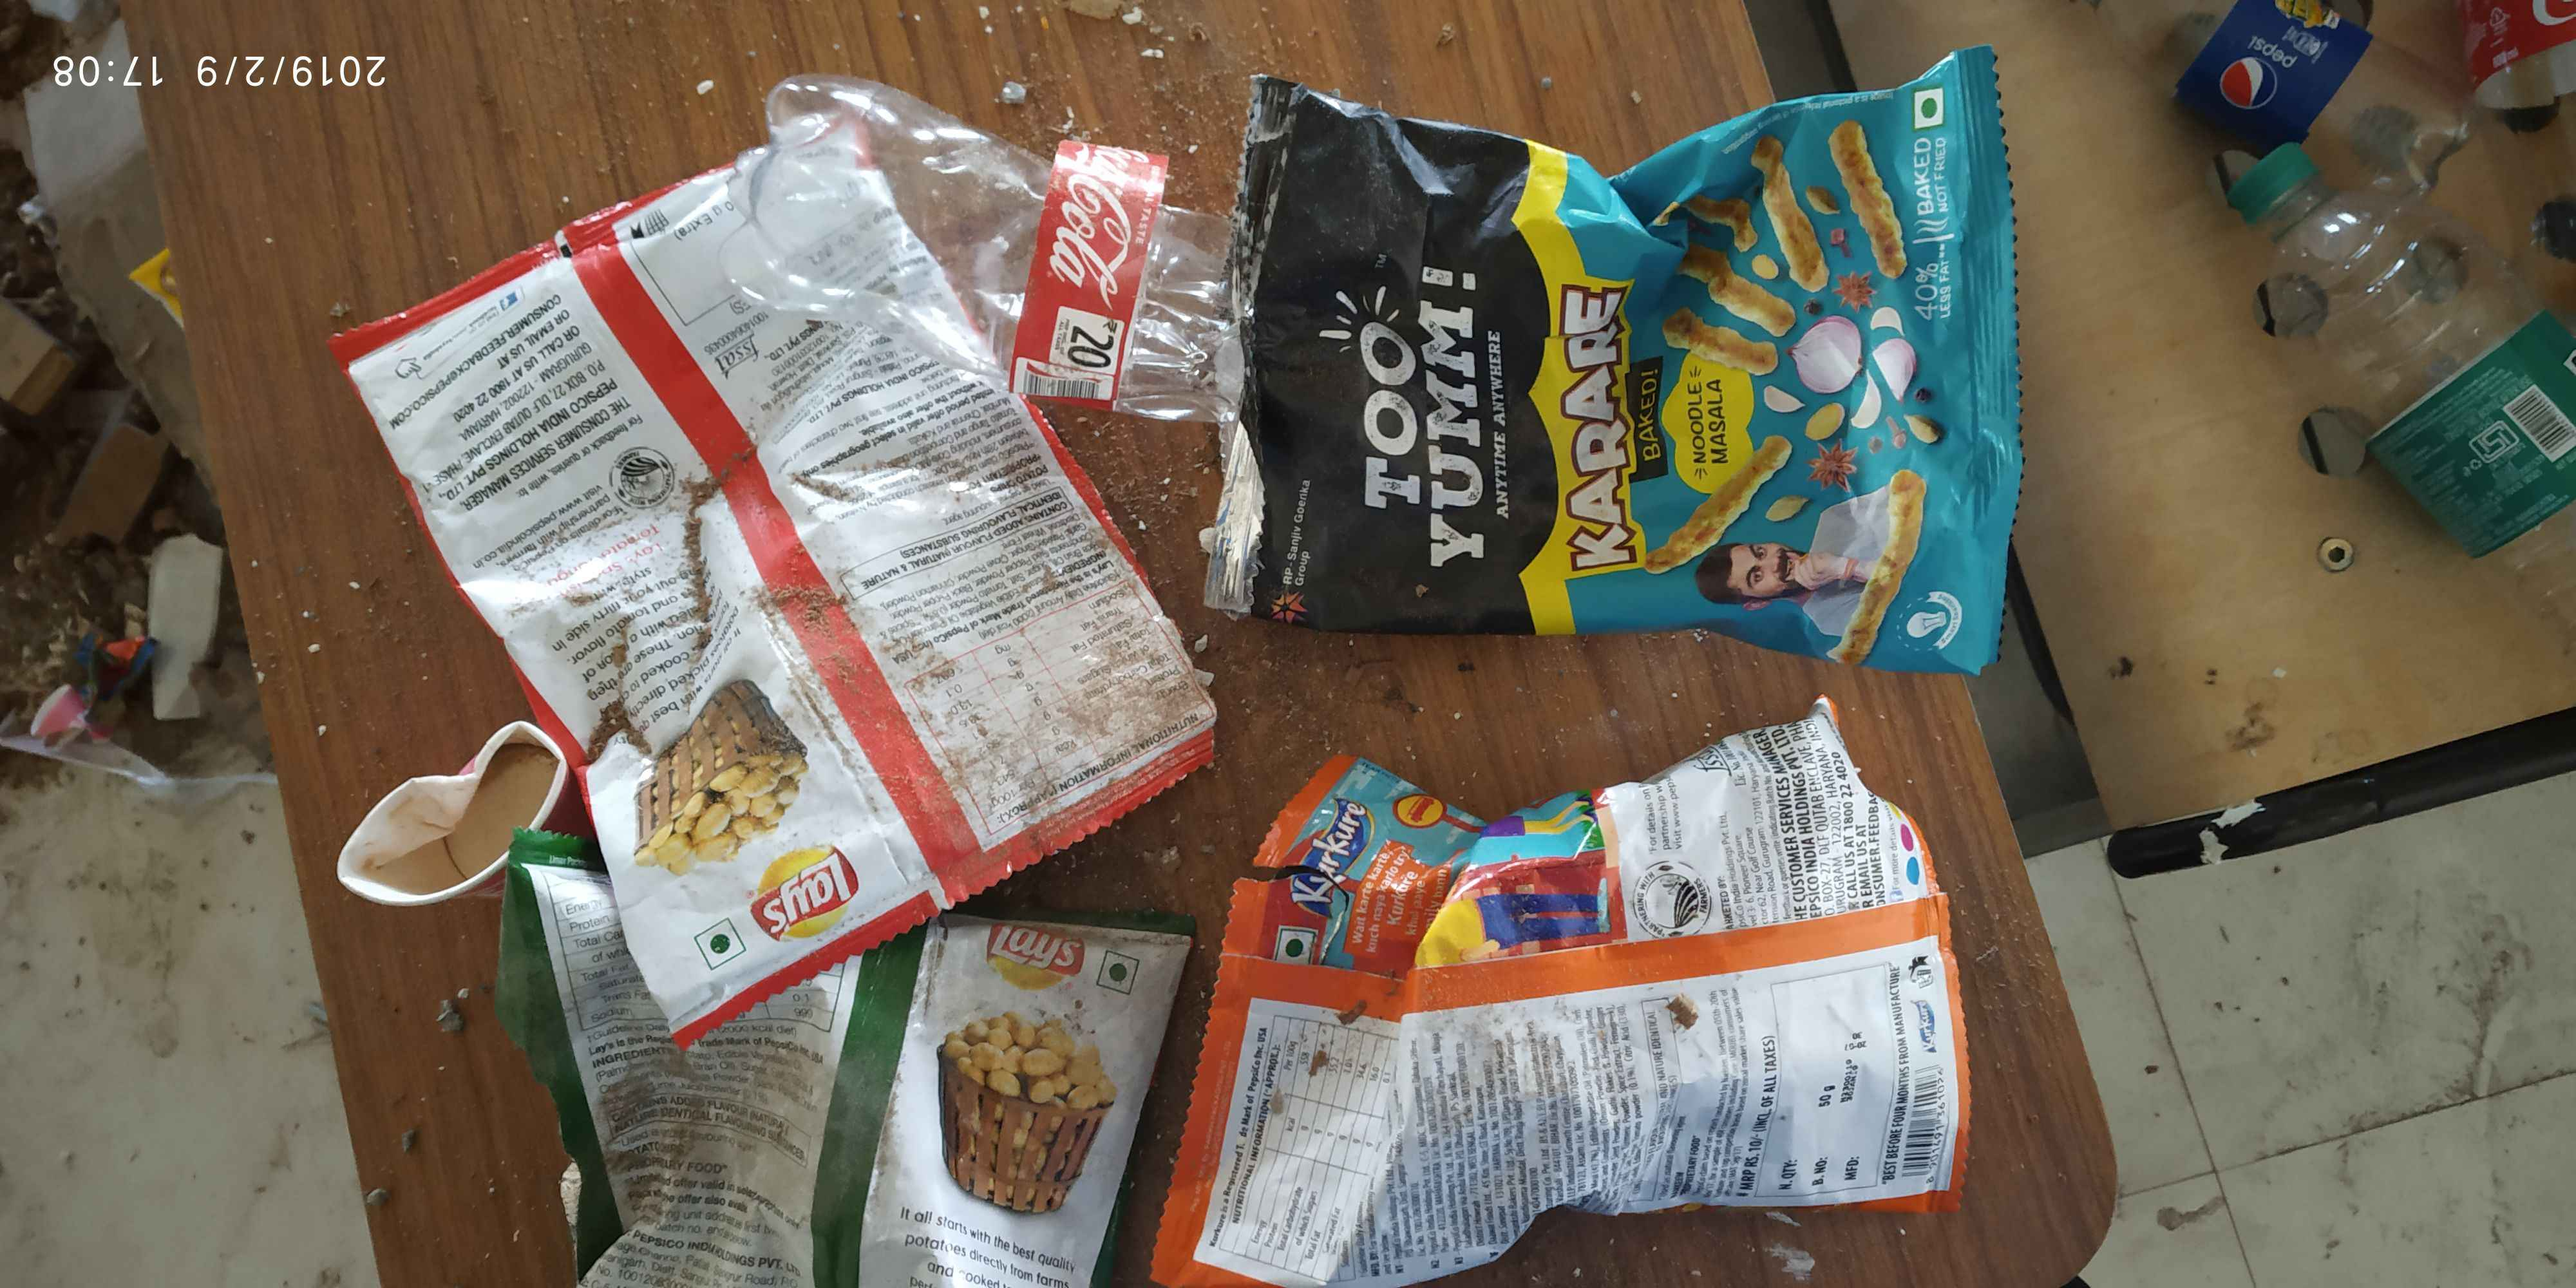Bisleri: (2464, 334, 2576, 473)
Coca-Cola: (1050, 136, 1138, 384)
Lays: (743, 826, 877, 931), (959, 920, 1101, 1007)
kurkure: (1281, 780, 1375, 923)
pepsi: (2213, 18, 2338, 125)
tooyumm: (1314, 217, 1539, 598)
